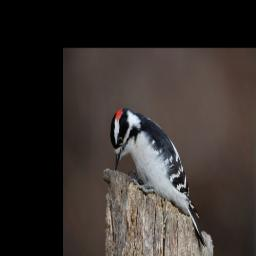Woodpecker: (109, 105, 208, 250)
